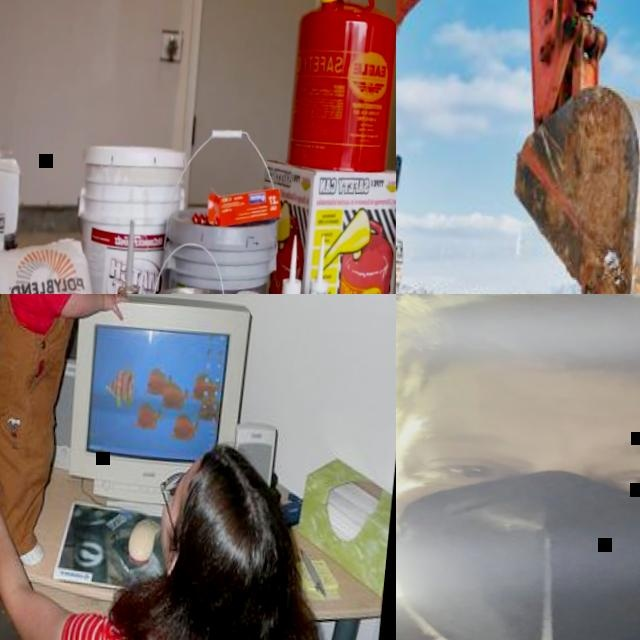Mask: (396, 471, 640, 640)
NO-Hardhat: (396, 294, 640, 420), (176, 442, 305, 604)
NO-Mask: (155, 499, 183, 566)
NO-Safety Vest: (0, 294, 85, 406), (62, 603, 210, 640)
Person: (396, 294, 640, 640), (0, 422, 342, 640), (0, 294, 141, 572)
machinery: (396, 0, 640, 294)
